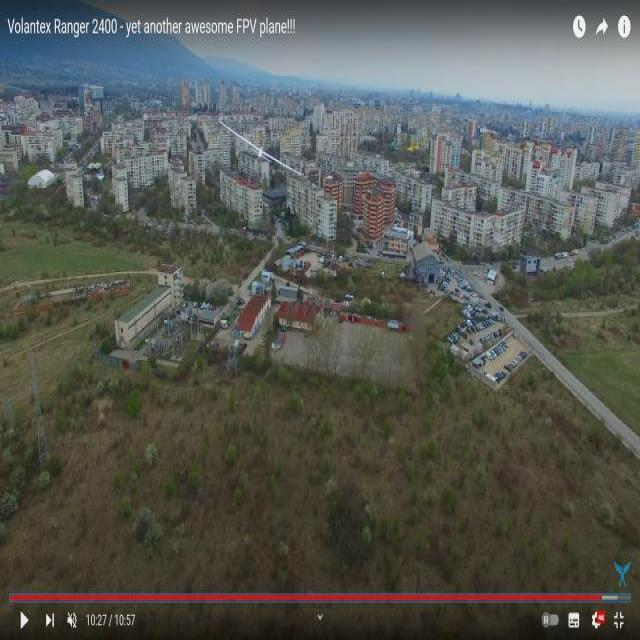iha: (249, 155, 266, 160)
